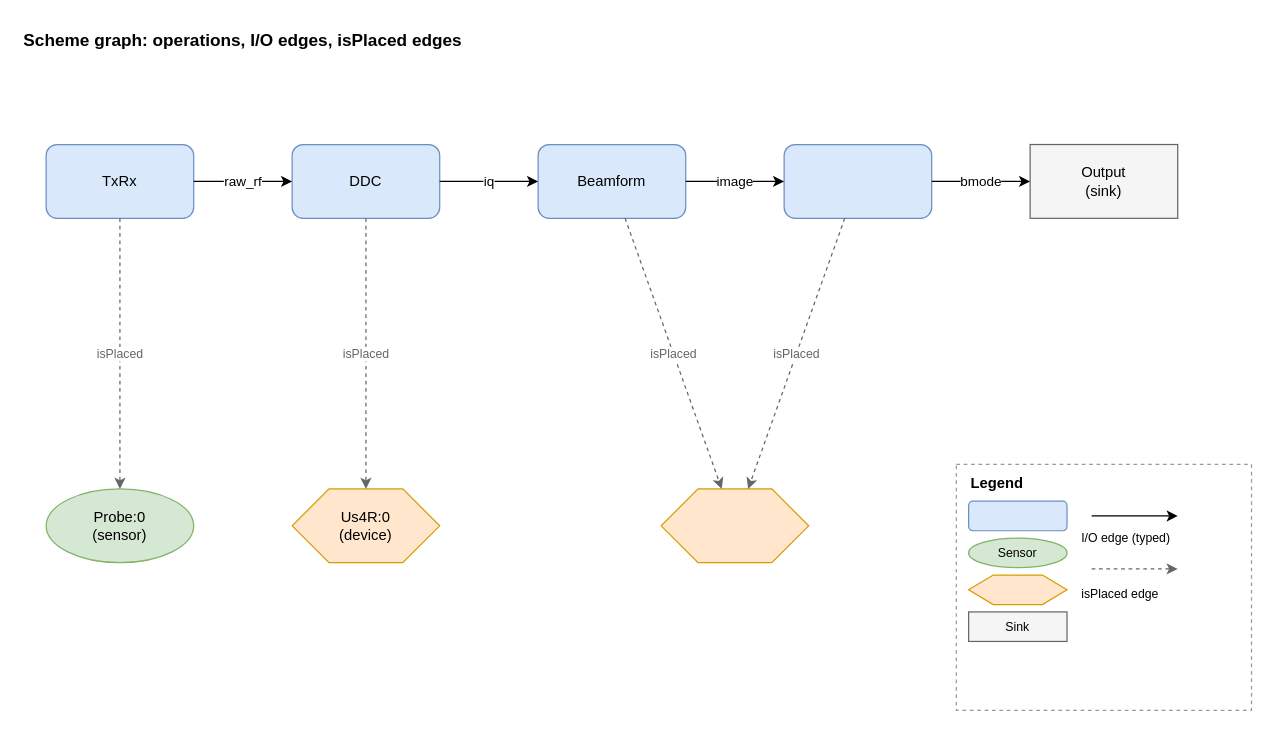
This 1273x732 diagram has some shape labels left out. The centre of each missing label's shape, as x and y in pixels:
Device: (x=1017, y=589)
GPU:0 (device): (x=734, y=525)
LogCompress: (x=857, y=180)
Operation: (x=1017, y=515)
